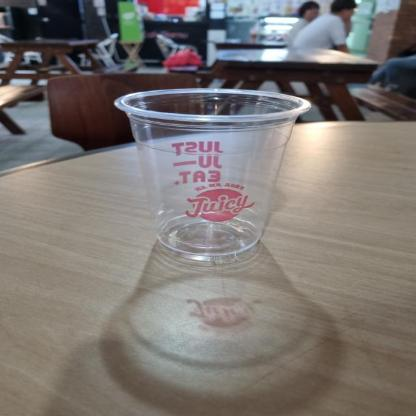Plastic Cup: (114, 88, 312, 264)
